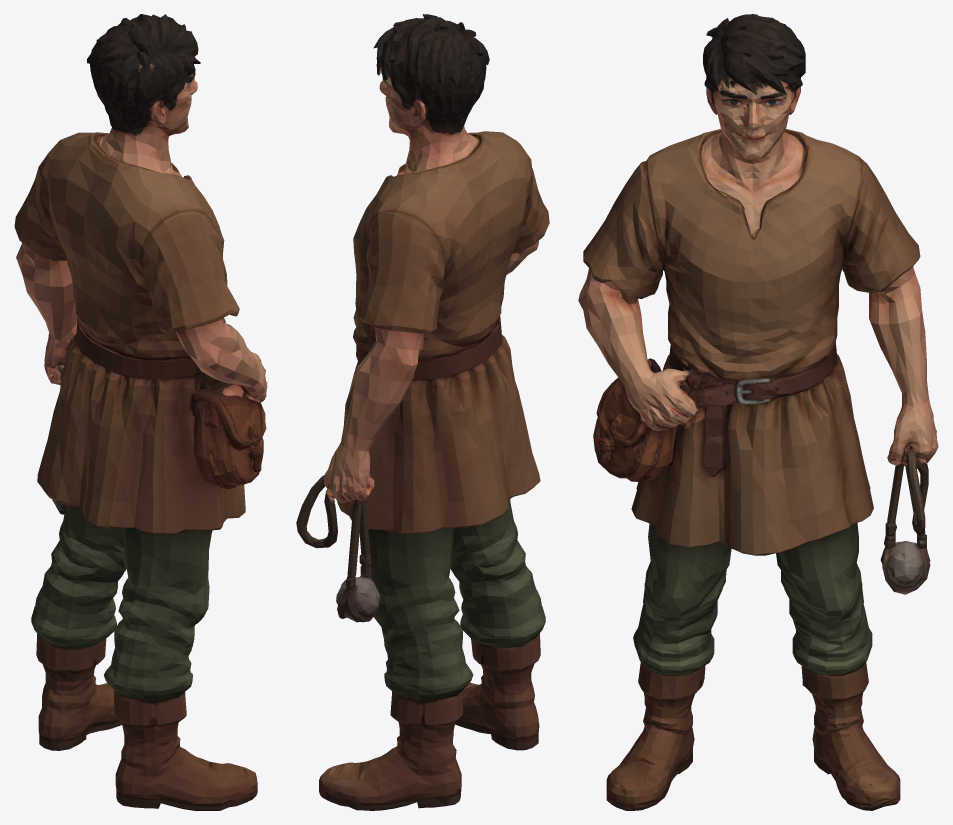
The model's file is David.glb.
3 renders of one model, left to right at view 1: azimuth 30°, elevation 25°; view 2: azimuth 150°, elevation 25°; view 3: azimuth 270°, elevation 25°, orthographic. The views are drawn at different scales.
Parts seen in each view (by area): view 1: tripo_node_47a52874-6f5f-4494-8869-b34b11e044a9; view 2: tripo_node_47a52874-6f5f-4494-8869-b34b11e044a9; view 3: tripo_node_47a52874-6f5f-4494-8869-b34b11e044a9.
Part boxes in pixels (x1,y1,x2,y2): tripo_node_47a52874-6f5f-4494-8869-b34b11e044a9: (14, 14, 267, 810); tripo_node_47a52874-6f5f-4494-8869-b34b11e044a9: (296, 14, 549, 810); tripo_node_47a52874-6f5f-4494-8869-b34b11e044a9: (578, 14, 938, 810).
Bounding box in the file's own units: 0.4187 × 1.8 × 0.7636.
1 material, 1 textured.
